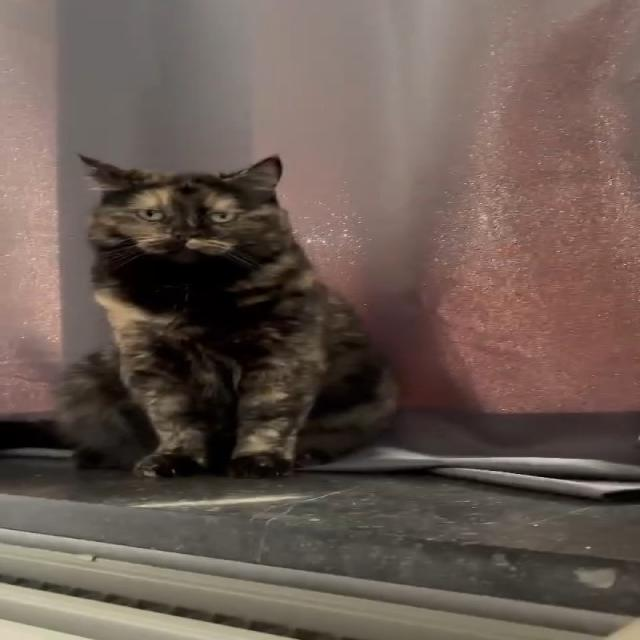authorized: (52, 152, 401, 479)
